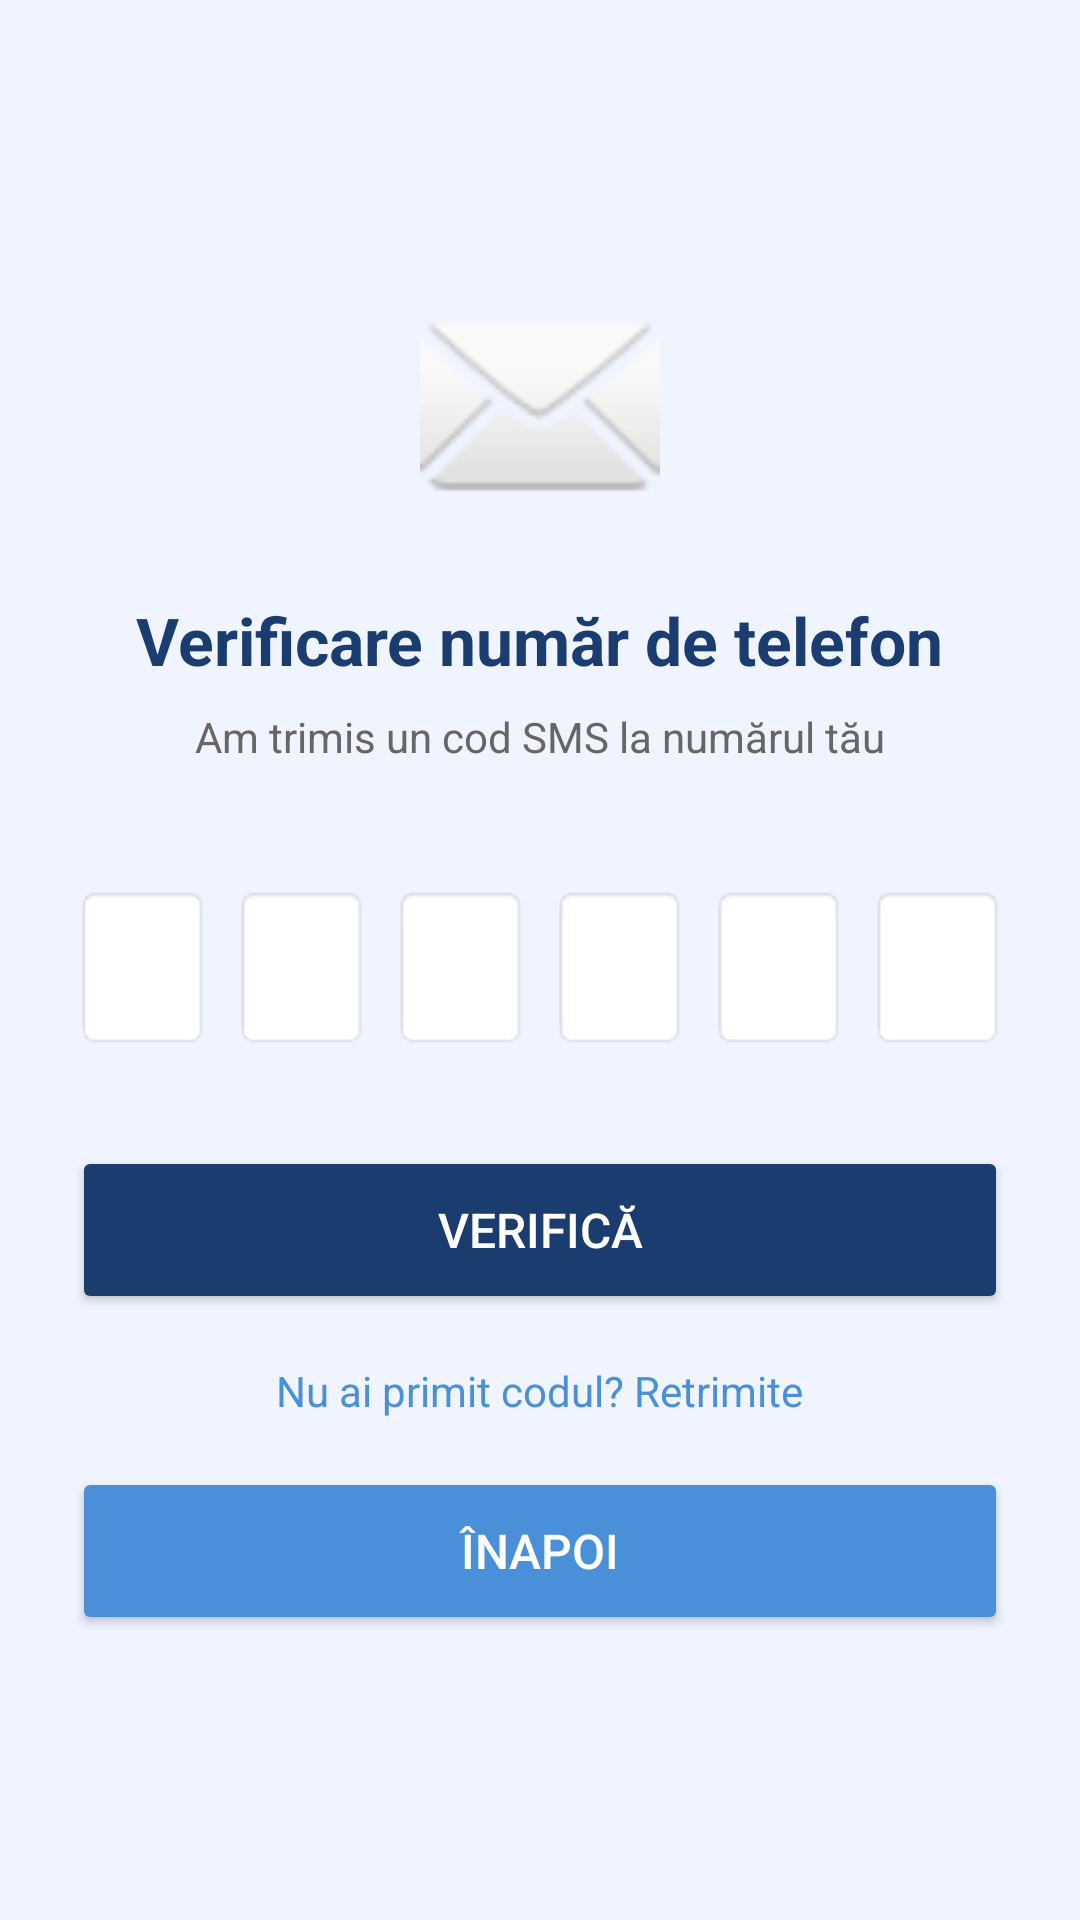

Screen size 1080w x 1920h. Icon name, then its center in pixels as point (x, y):
email: point (540, 407)
